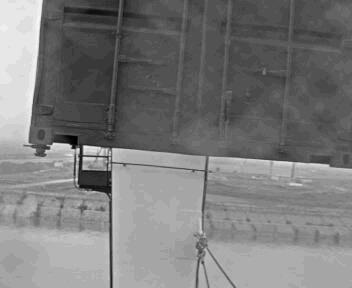twist_lock_1: (25, 140, 54, 164)
